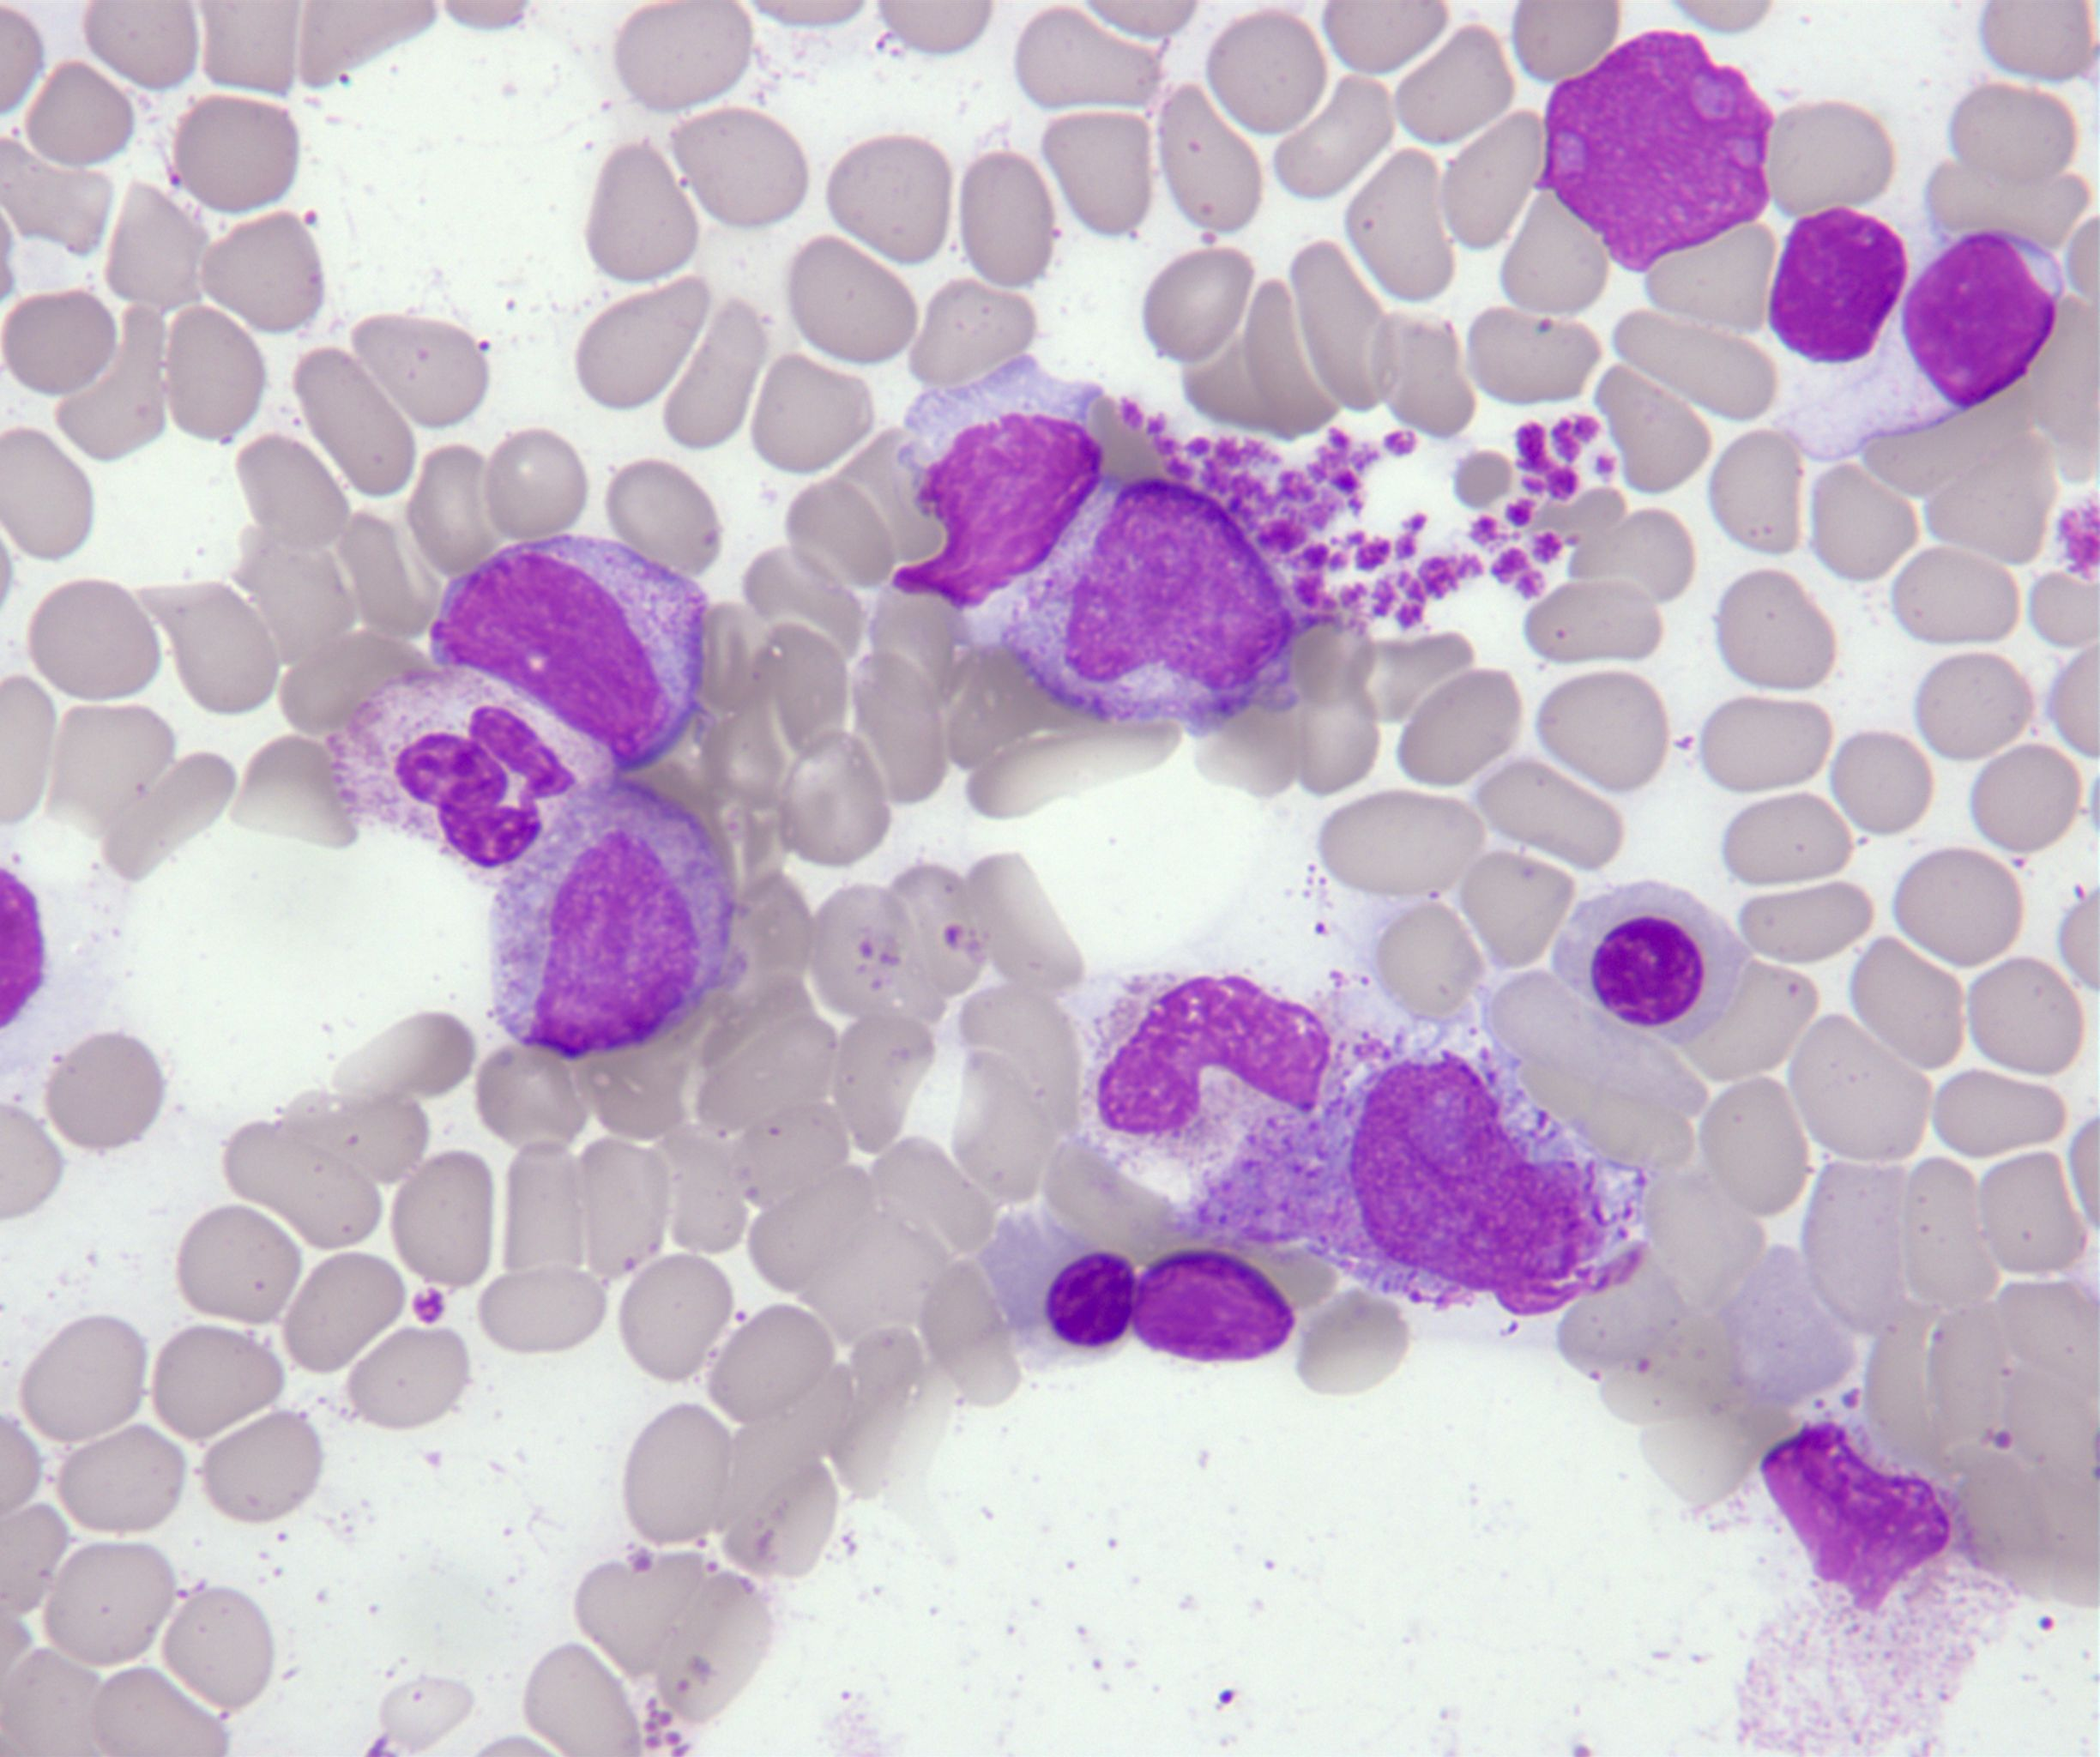24: (1549, 878, 1753, 1042), (1040, 1241, 1134, 1354)
3: (1340, 1042, 1652, 1330), (999, 475, 1306, 745), (481, 773, 741, 1068), (426, 527, 715, 775)
32: (893, 347, 1109, 611), (1896, 225, 2067, 417)
4: (1078, 963, 1333, 1155)
6: (314, 658, 621, 886)
x: (1526, 26, 1774, 277), (1749, 1413, 1959, 1617), (1758, 202, 1912, 365), (1130, 1242, 1298, 1364)
